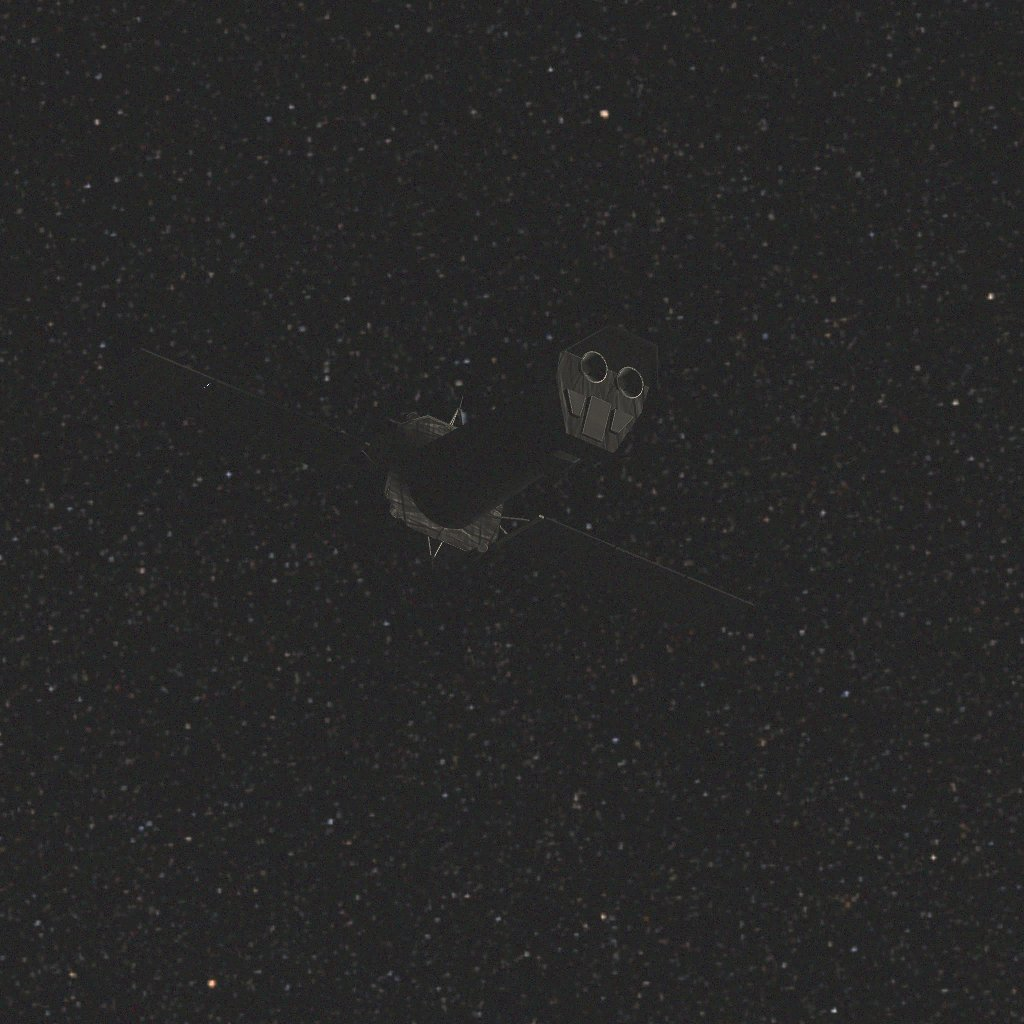xmm_newton: (99, 325, 754, 631)
